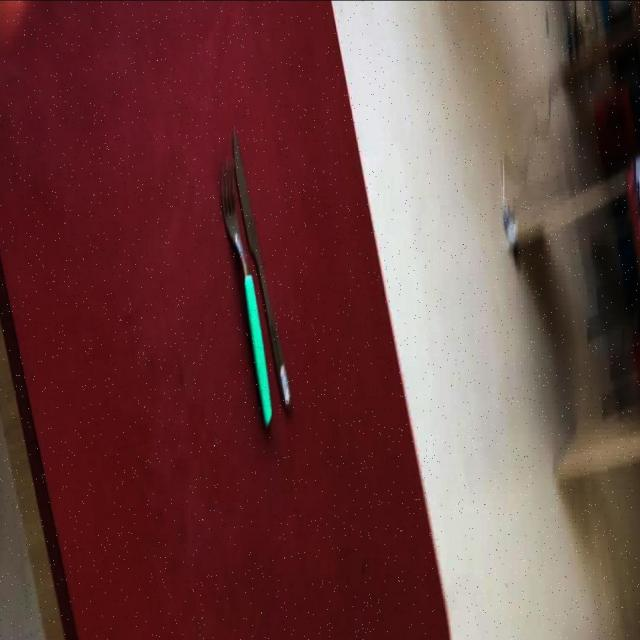Fork: (219, 159, 273, 431)
Knife: (230, 126, 291, 414)
